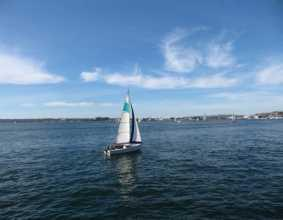fanchuan: (100, 92, 150, 159)
